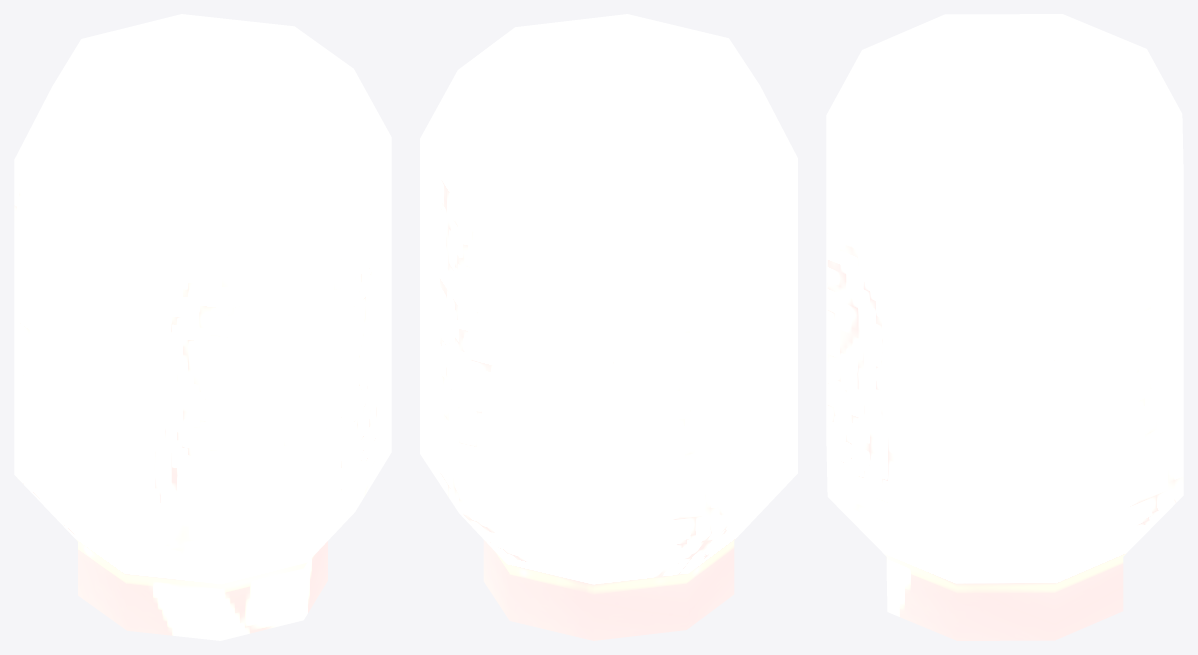
File: sfx_weapon_spirit_A1010.glb
3 views of the same model, side by side, from view 1: azimuth 30°, elevation 25°; view 2: azimuth 150°, elevation 25°; view 3: azimuth 270°, elevation 25° (orthographic).
Parts seen in each view (by area): view 1: sfx_weapon_spirit_A1010_obj6; view 2: sfx_weapon_spirit_A1010_obj6; view 3: sfx_weapon_spirit_A1010_obj6.
Boxes of the visible parts, x1=… form: sfx_weapon_spirit_A1010_obj6: x1=14, y1=14, x2=391, y2=640; sfx_weapon_spirit_A1010_obj6: x1=420, y1=14, x2=797, y2=640; sfx_weapon_spirit_A1010_obj6: x1=826, y1=14, x2=1183, y2=640.
Size of the model in its own units: 0.3666 by 0.5843 by 0.3666.
Materials: 1 (1 with a texture image).
